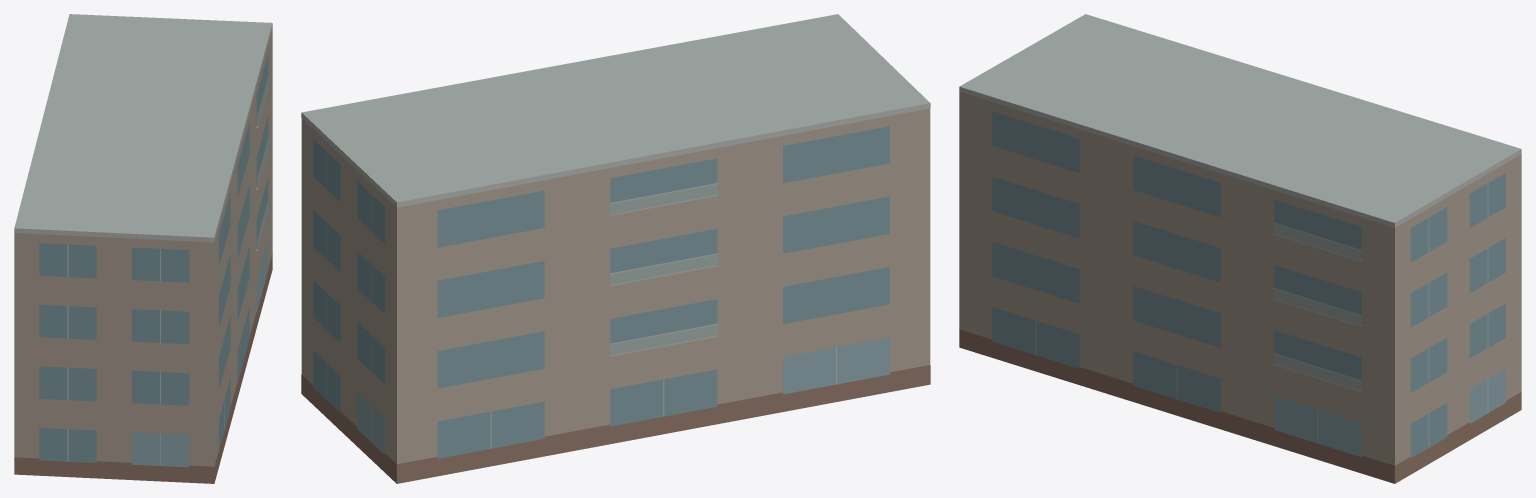
Rendered from survey-upis-32987407.glb.
The picture shows the model from 3 angles, left to right: view 1: azimuth 30°, elevation 25°; view 2: azimuth 150°, elevation 25°; view 3: azimuth 270°, elevation 25°; orthographic projection. The views are drawn at different scales.
Parts seen in each view (by area): view 1: survey-upis-32987407.tmp; view 2: survey-upis-32987407.tmp; view 3: survey-upis-32987407.tmp.
Boxes of the visible parts, x1,y1,x2,y2 form: survey-upis-32987407.tmp: (14, 14, 272, 483); survey-upis-32987407.tmp: (301, 14, 930, 483); survey-upis-32987407.tmp: (959, 14, 1521, 483).
Size of the model in its own units: 22.01 by 12.8 by 25.02.
